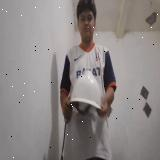Helmet: (70, 70, 104, 117)
